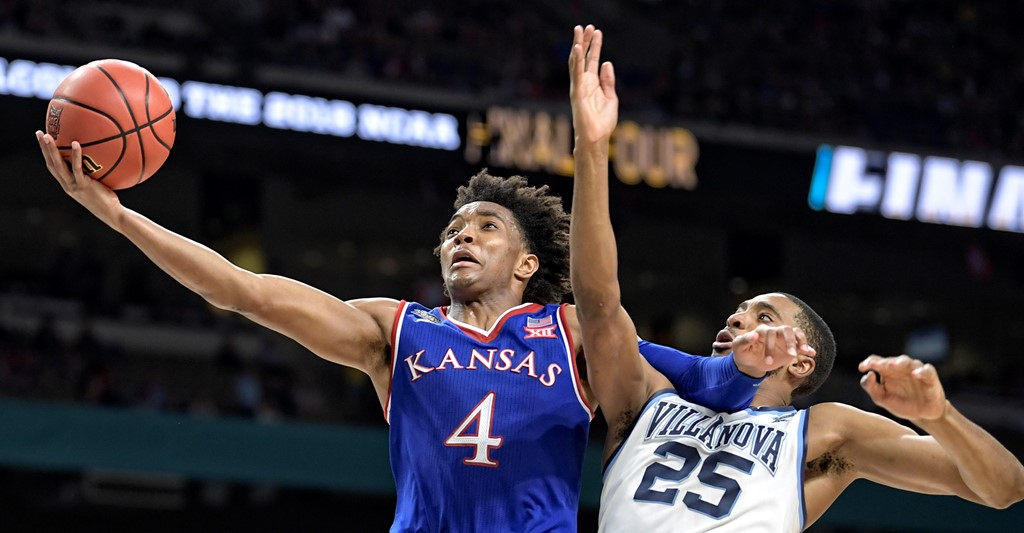ball: (33, 47, 192, 203)
defense: (542, 14, 1024, 529)
shoot: (17, 39, 603, 533)
